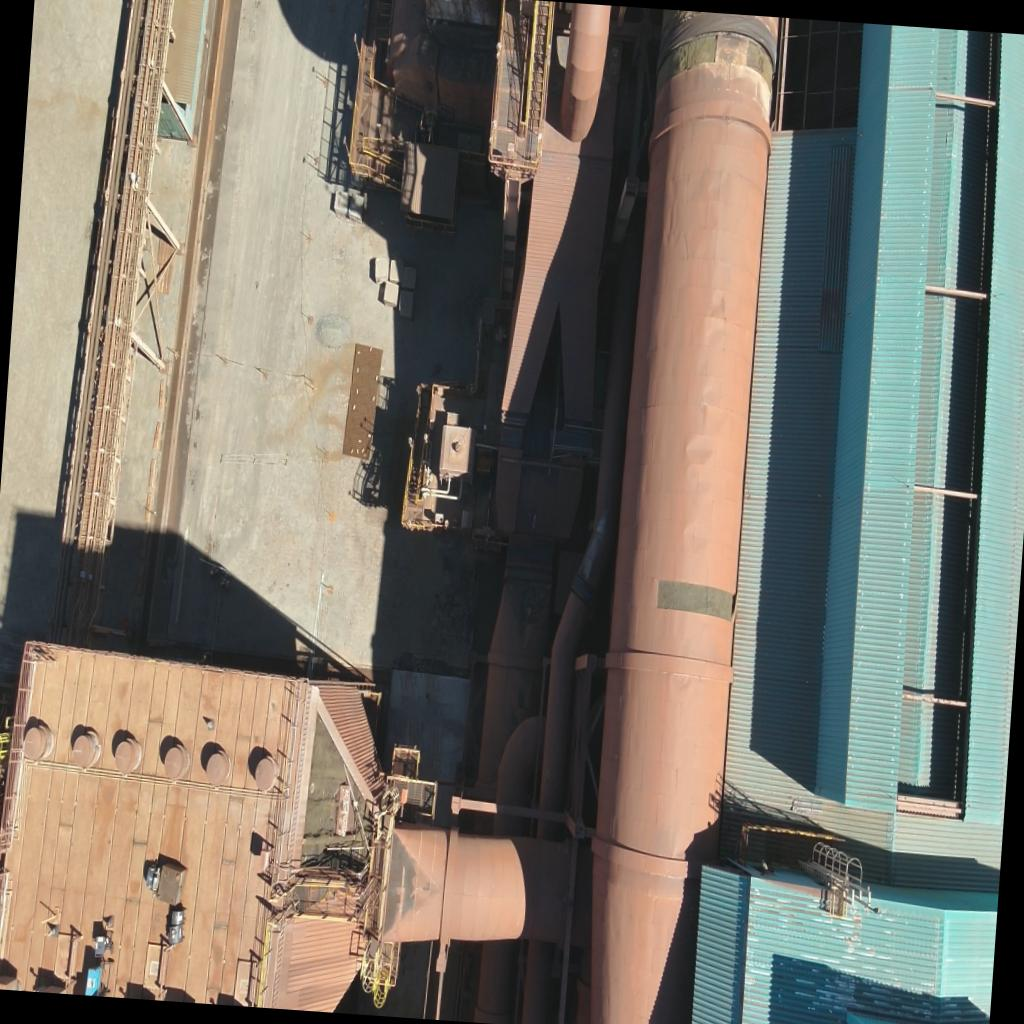Failures: (295, 720, 384, 894), (657, 27, 779, 100), (656, 576, 741, 623)
